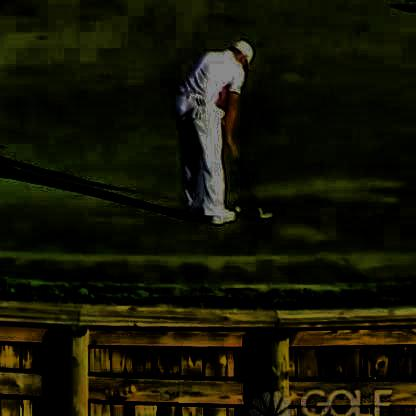golfball: (231, 199, 241, 210)
